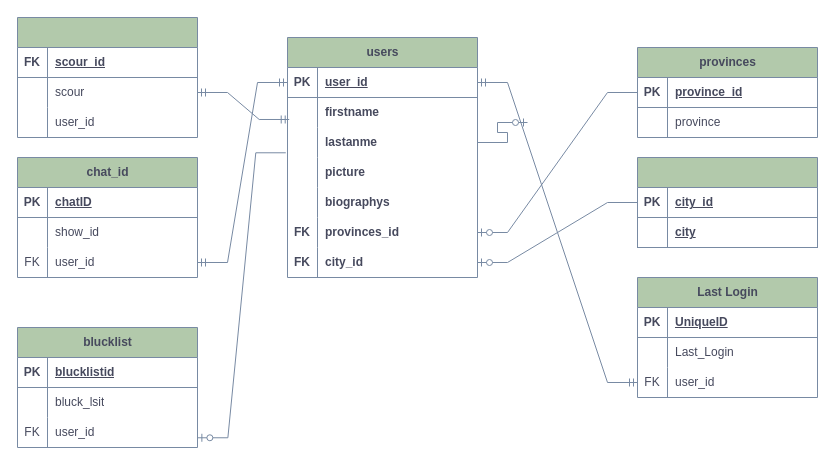
Some shapes in this 835 by 465 pixel diagram are drawn without their labels. Here are the shapes that lost their labels. From the top down, the box of each, then its label:
(16, 16, 198, 138): scours
(636, 156, 818, 248): Cities
